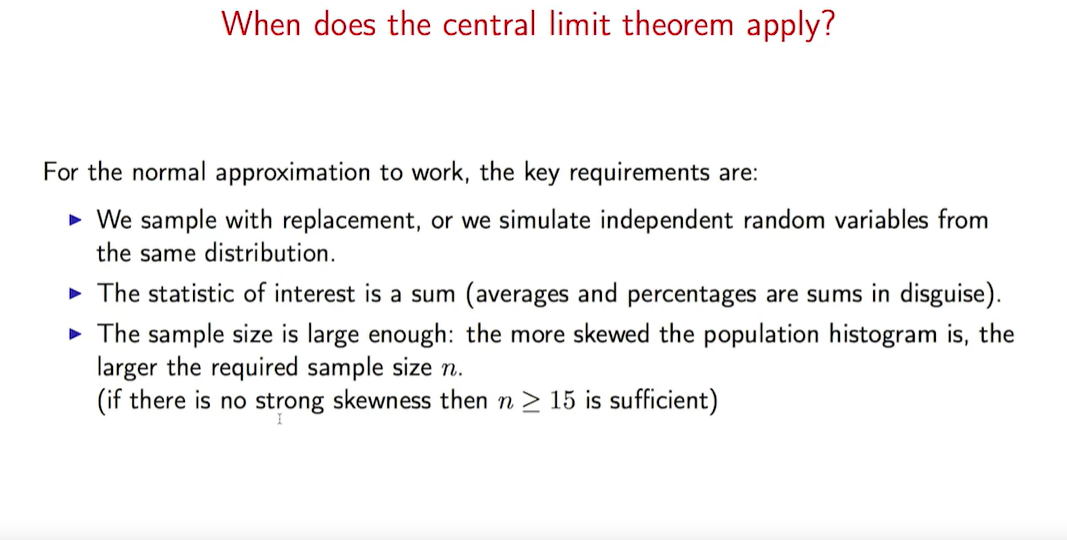text: (96, 319, 1020, 381), (89, 207, 990, 266), (94, 279, 1005, 316), (213, 4, 836, 50), (94, 387, 726, 423), (36, 158, 755, 189)
